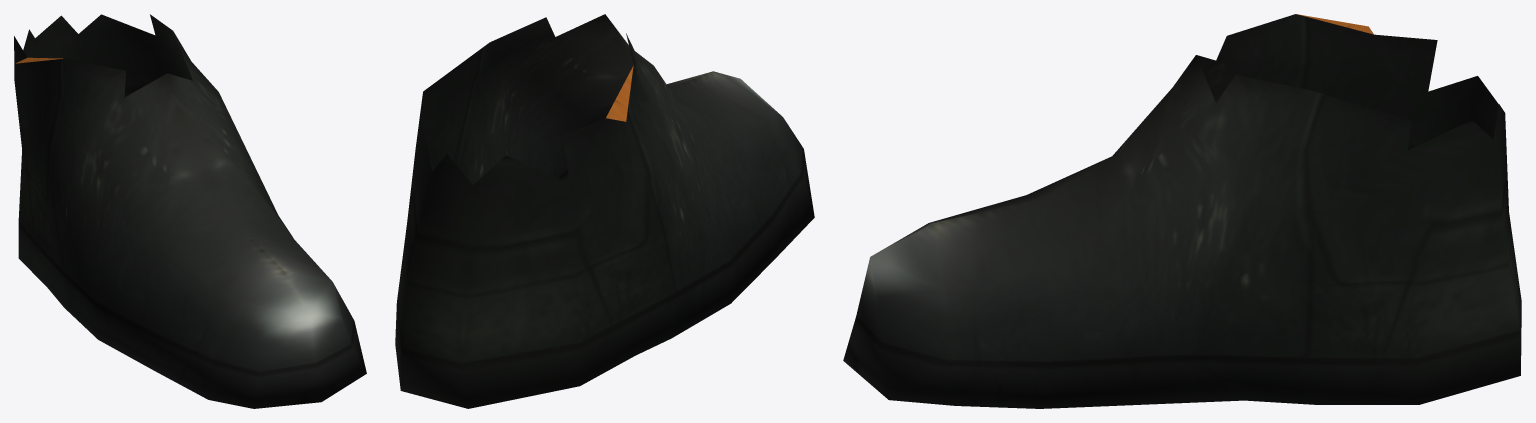
Rendered from gordon_pie_der.obj.
The picture shows the model from 3 angles, left to right: view 1: azimuth 30°, elevation 25°; view 2: azimuth 150°, elevation 25°; view 3: azimuth 270°, elevation 25°; orthographic projection. The views are drawn at different scales.
Visible parts, largest first — view 1: gordon_pie_der; view 2: gordon_pie_der; view 3: gordon_pie_der.
Part boxes in pixels (left/top/right/bottom): gordon_pie_der: left=14, top=14, right=366, bottom=408; gordon_pie_der: left=395, top=14, right=814, bottom=408; gordon_pie_der: left=843, top=14, right=1521, bottom=408.
Bounding box in the file's own units: 0.0941 × 0.116 × 0.2386.
